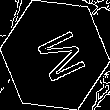M_SW: (25, 23, 85, 87)
